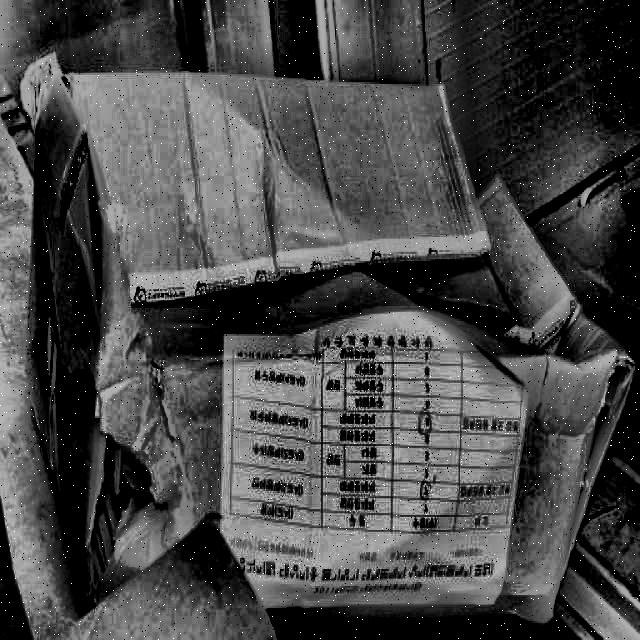box: (10, 62, 630, 627)
hole: (69, 433, 153, 594)
